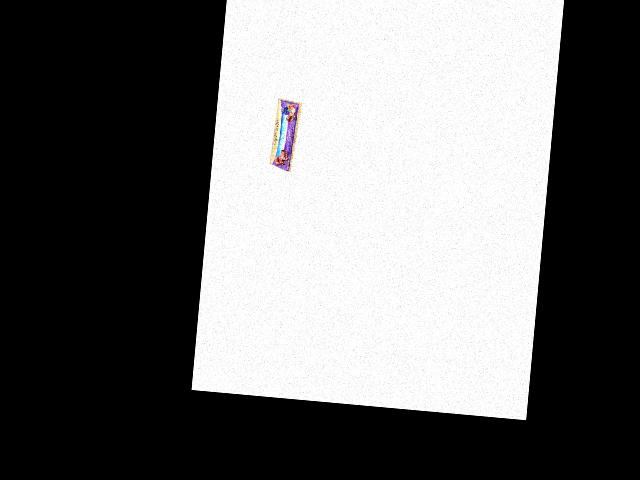chocolate: (271, 98, 302, 175)
